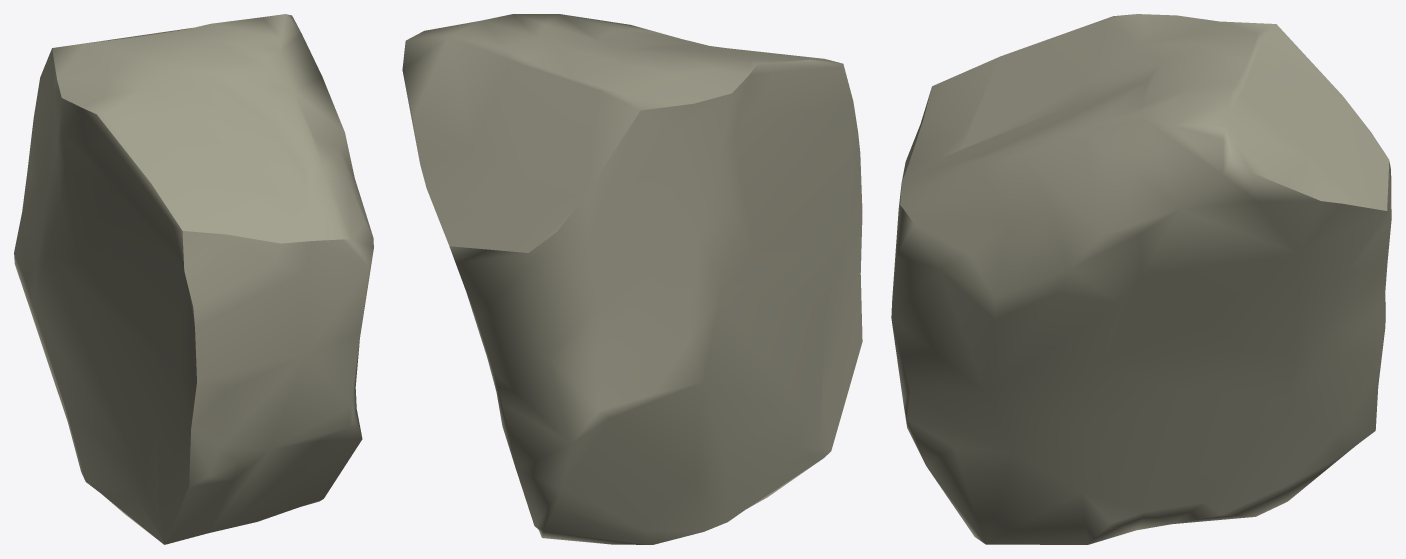
3 renders of one model, left to right at view 1: azimuth 30°, elevation 25°; view 2: azimuth 150°, elevation 25°; view 3: azimuth 270°, elevation 25°, orthographic. The views are drawn at different scales.
Visible parts, largest first — view 1: SM_BM_Cliff_Sm_Rocks_01_LOD0; view 2: SM_BM_Cliff_Sm_Rocks_01_LOD0; view 3: SM_BM_Cliff_Sm_Rocks_01_LOD0.
Part boxes in pixels (bbox=[...]): SM_BM_Cliff_Sm_Rocks_01_LOD0: bbox=[14, 14, 373, 544]; SM_BM_Cliff_Sm_Rocks_01_LOD0: bbox=[402, 14, 862, 544]; SM_BM_Cliff_Sm_Rocks_01_LOD0: bbox=[891, 14, 1391, 544].
Size of the model in its own units: 0.2581 by 0.3727 by 0.3729.
